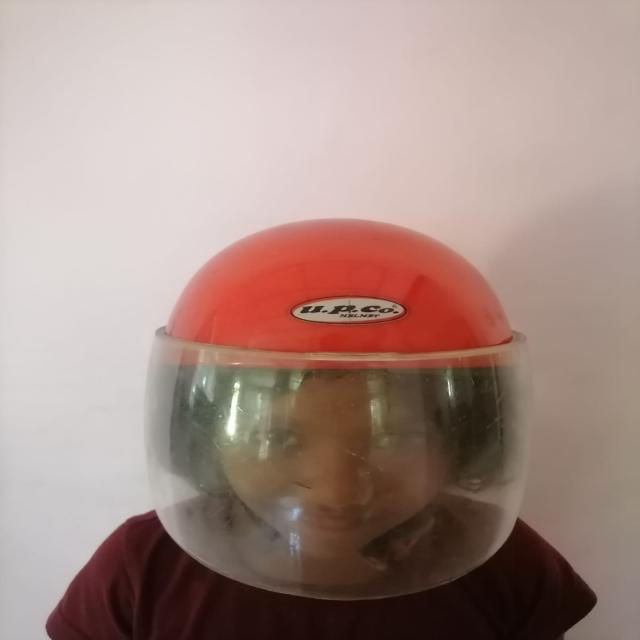With Helmet: (138, 215, 536, 602)
